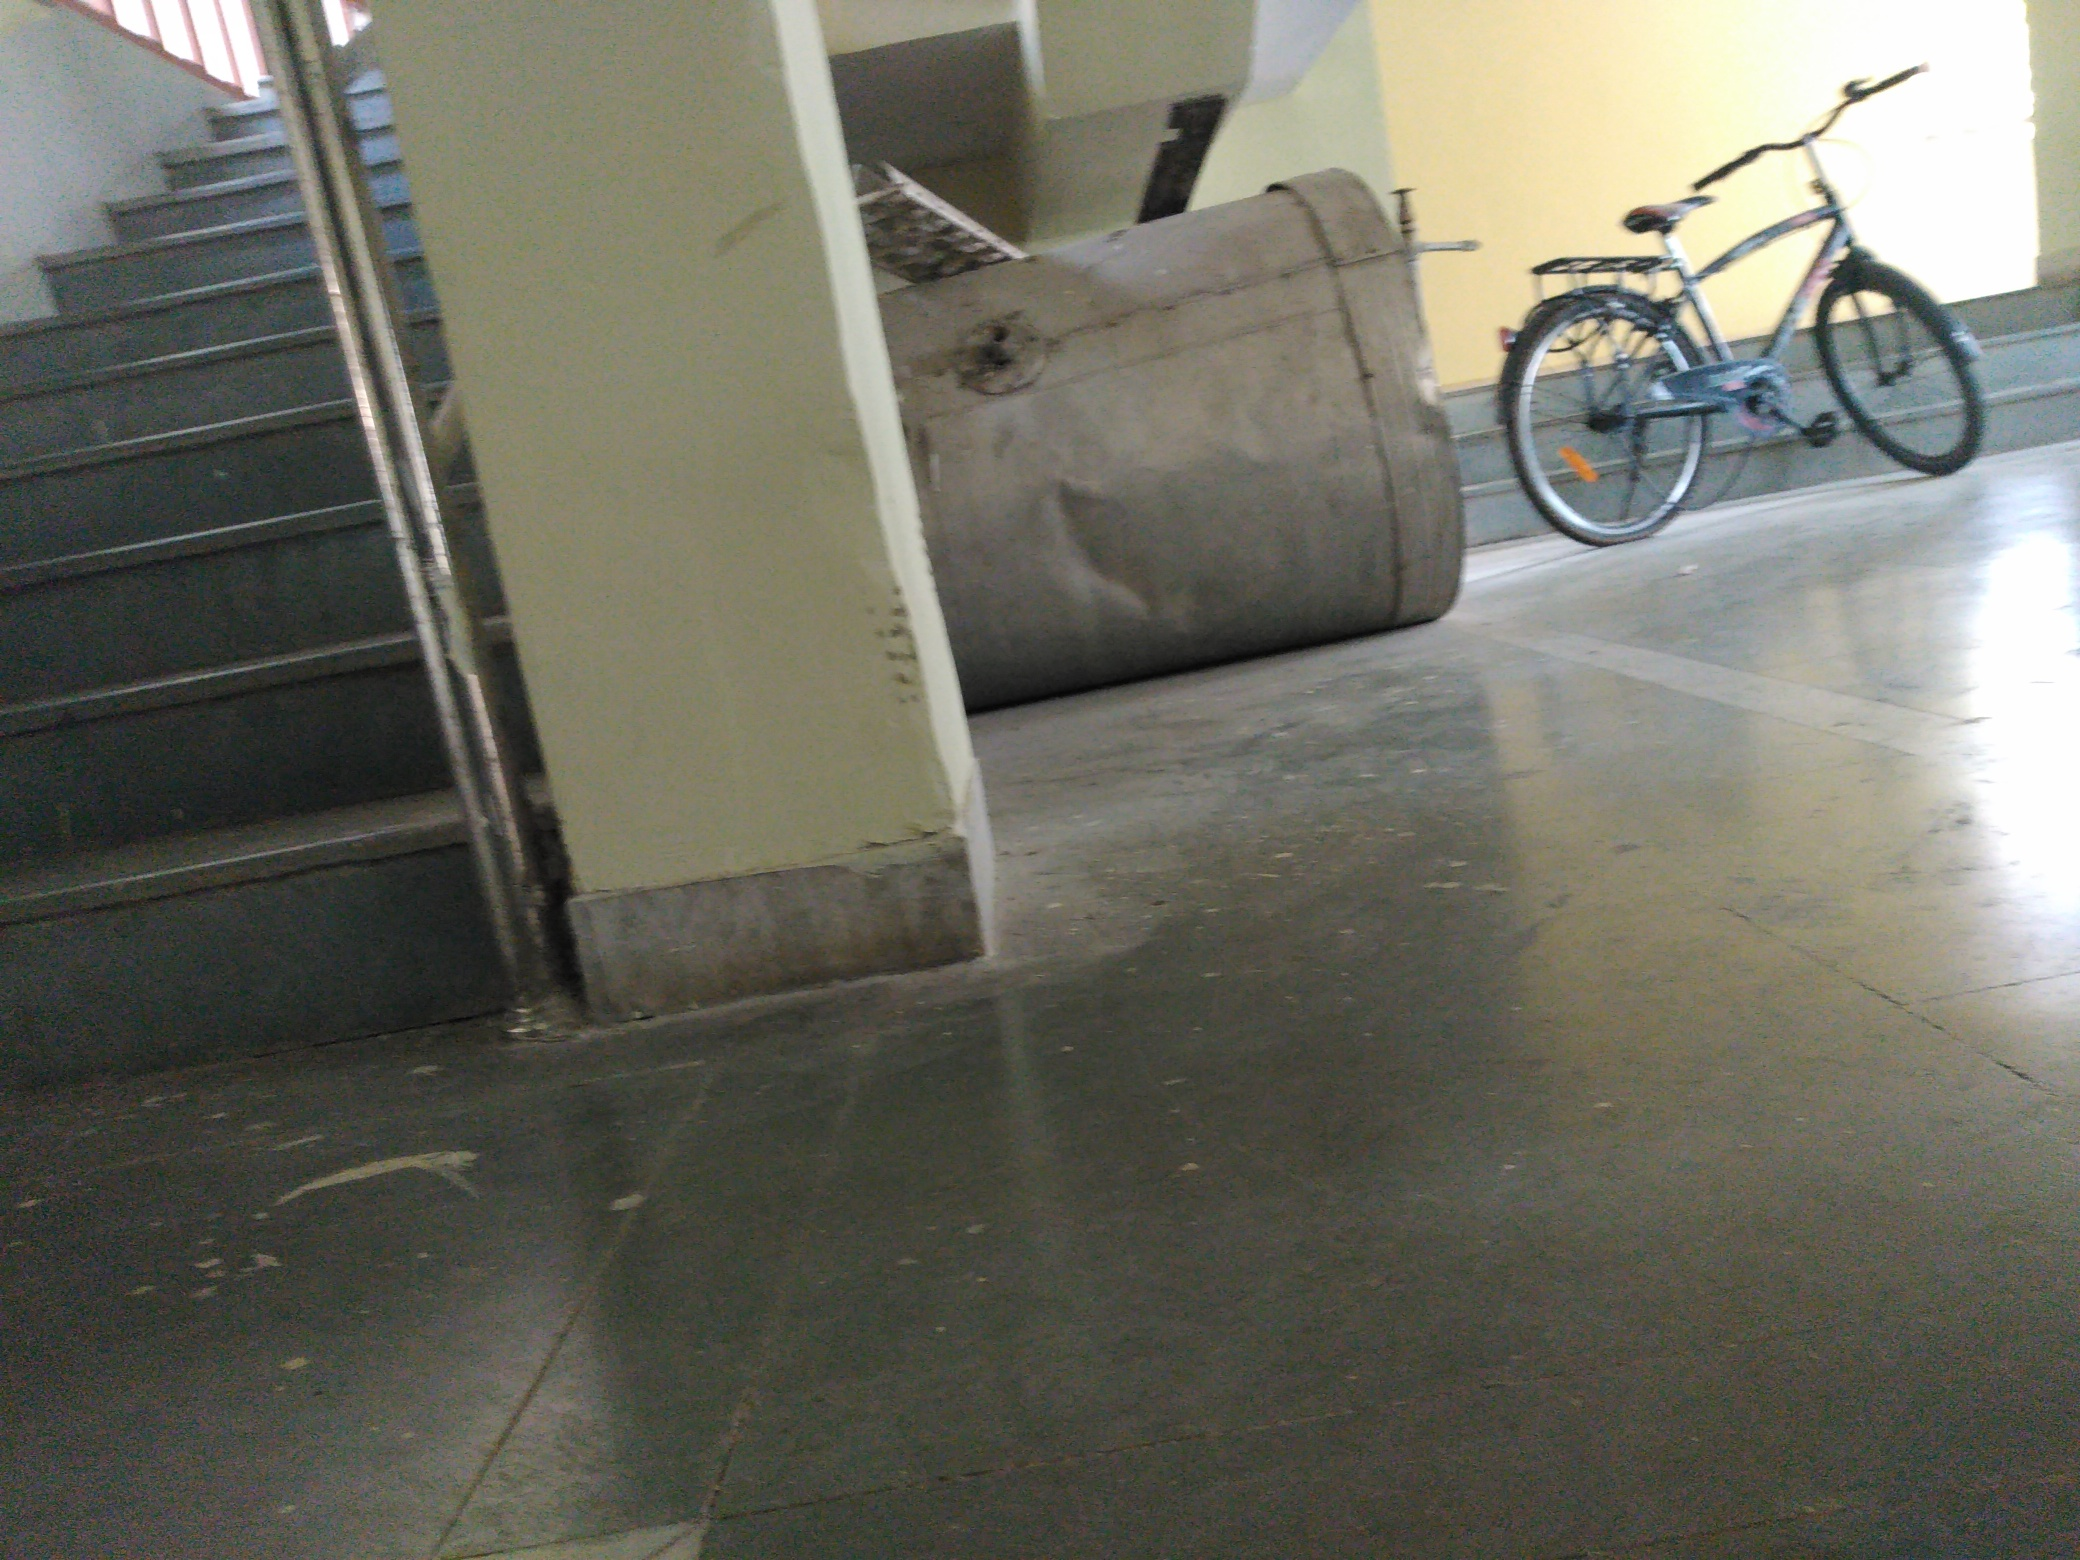stairs_up: (2, 26, 544, 1013)
